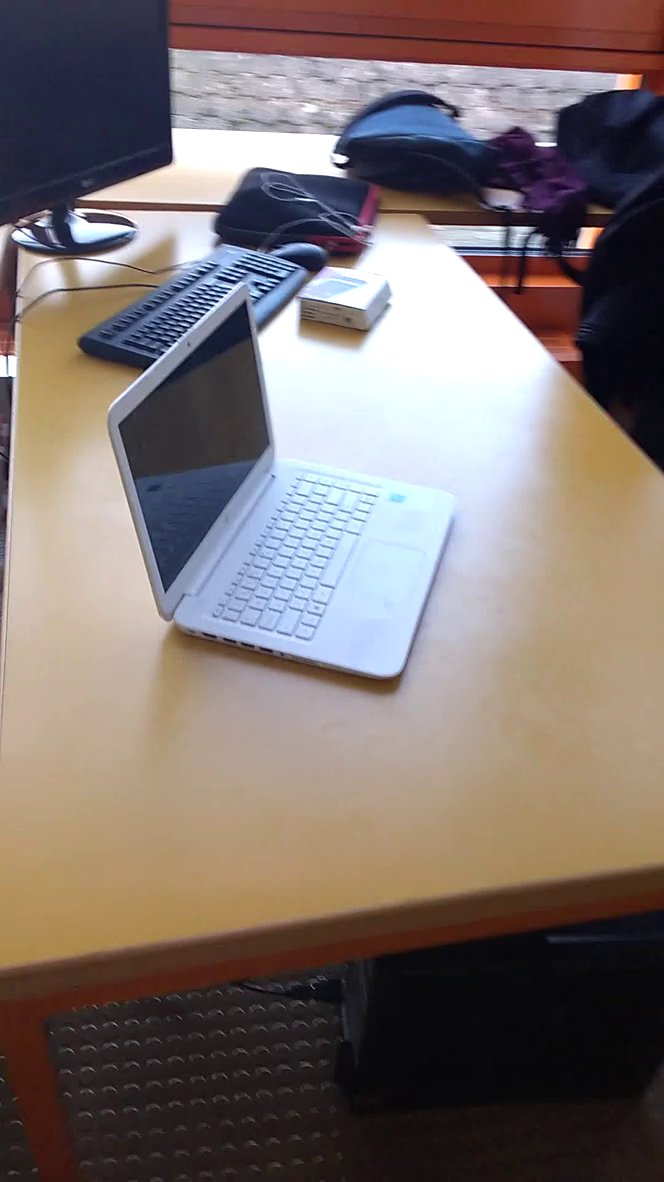laptop: (99, 276, 470, 701)
